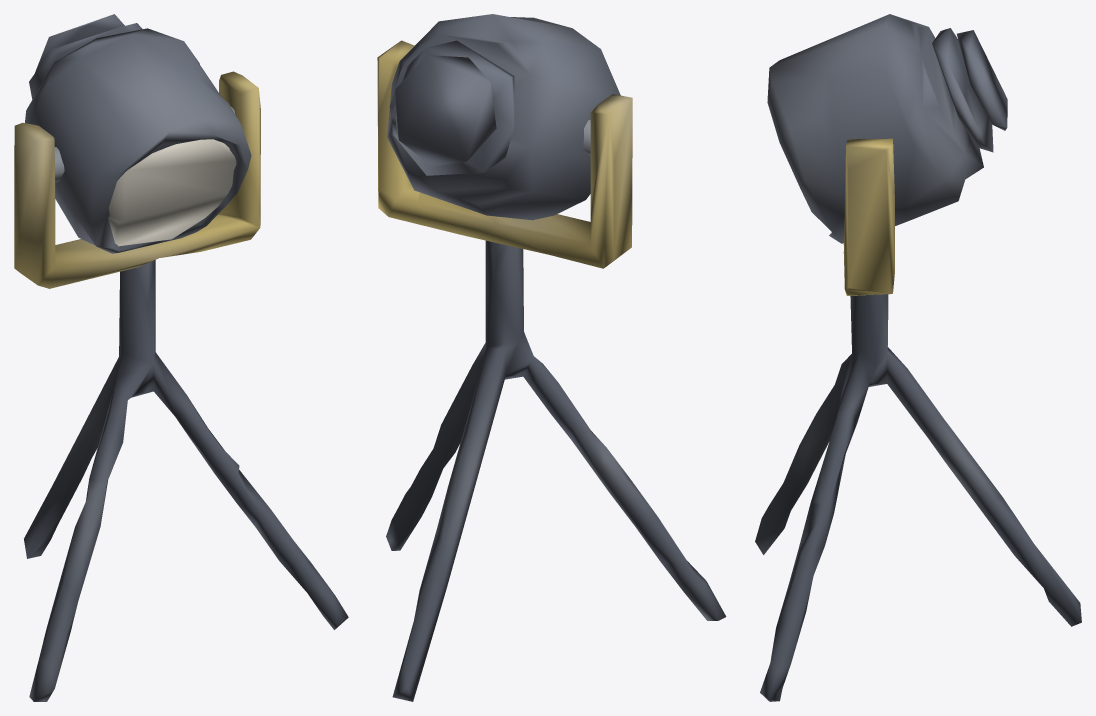
Rendered from bay_flood.glb.
The picture shows the model from 3 angles, left to right: view 1: azimuth 30°, elevation 25°; view 2: azimuth 150°, elevation 25°; view 3: azimuth 270°, elevation 25°; orthographic projection. The views are drawn at different scales.
Visible parts, largest first — view 1: flood, flood_glow; view 2: flood; view 3: flood.
Part boxes in pixels (x1=…): flood: x1=14, y1=14, x2=348, y2=701; flood_glow: x1=108, y1=139, x2=236, y2=246; flood: x1=377, y1=14, x2=726, y2=701; flood: x1=755, y1=14, x2=1081, y2=701.
Size of the model in its own units: 0.5914 by 1.04 by 0.5109.
